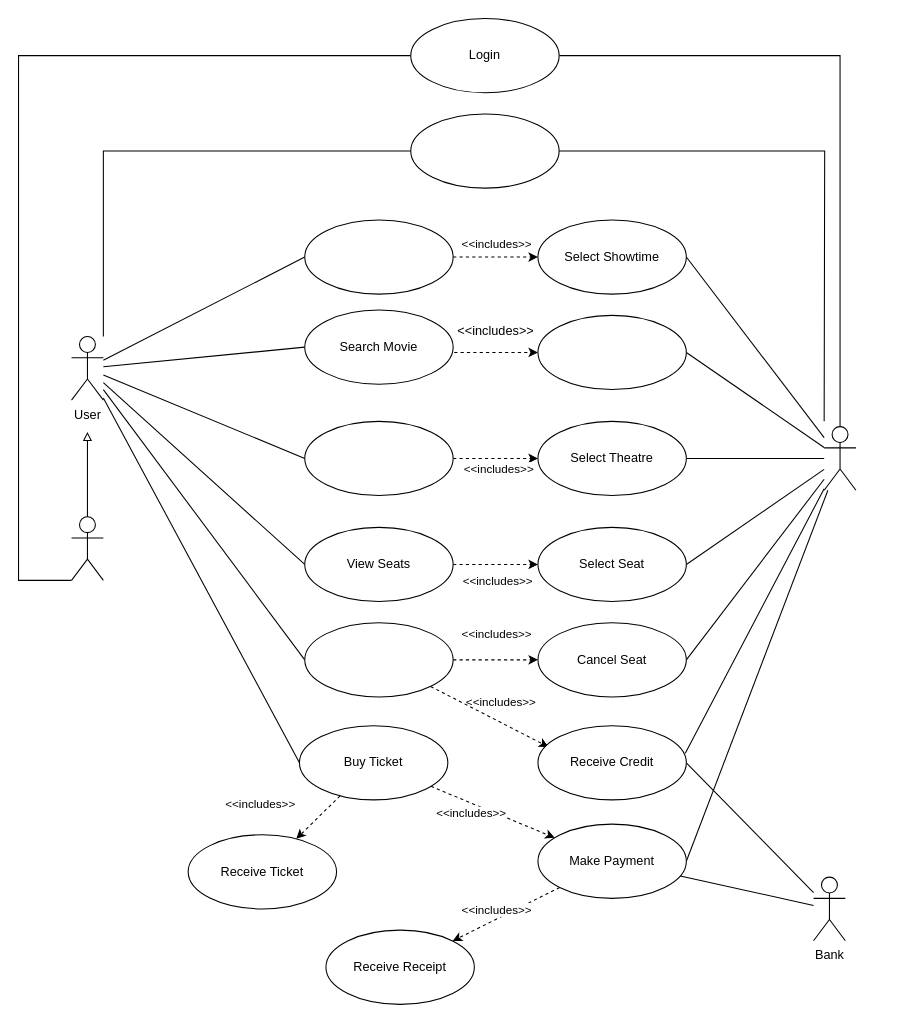
Image size: 907x1023. Some labels were removed from this diagram. The shapes that lost their labels are listed below. From the top down, each one's centre as x and y in pixels, then its label:
the point at 484,150: Register
the point at 378,256: View Showtimes
the point at 611,352: Select Movie
the point at 378,458: View Theatre
the point at 839,458: Database Engine
the point at 86,548: Registered User
the point at 378,659: Cancel Ticket
